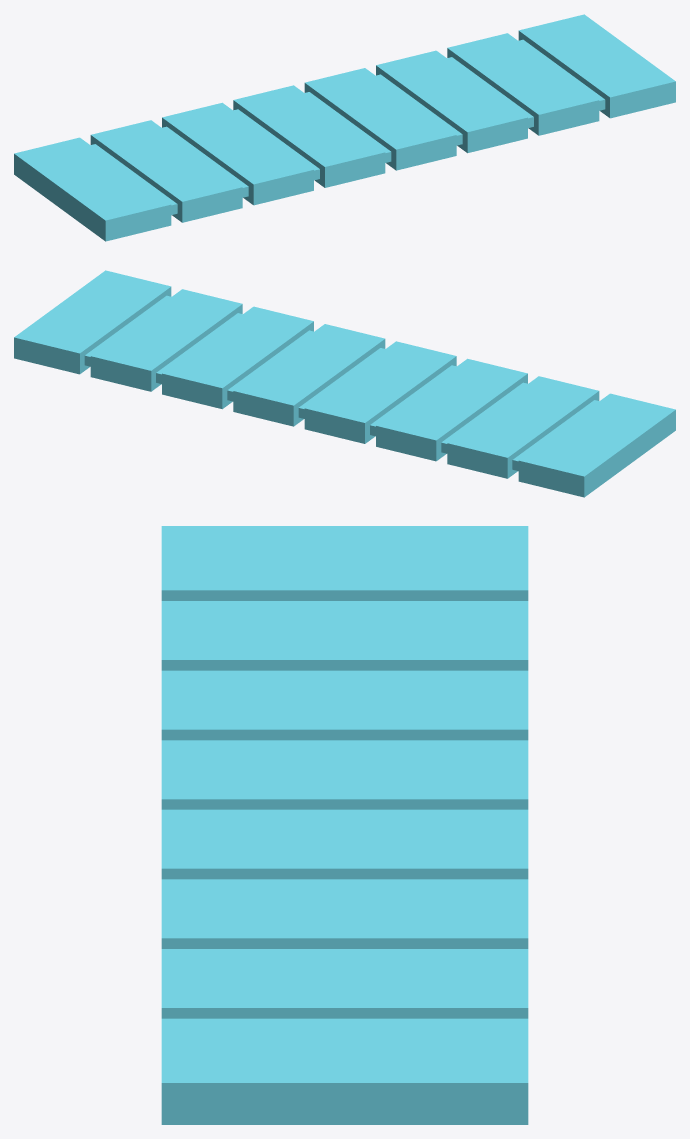
The model's file is Bridge.glb.
The picture shows the model from 3 angles, top to bottom: view 1: azimuth 30°, elevation 25°; view 2: azimuth 150°, elevation 25°; view 3: azimuth 270°, elevation 25°; orthographic projection. The views are drawn at different scales.
Parts seen in each view (by area): view 1: Bridge; view 2: Bridge; view 3: Bridge.
Part boxes in pixels (left/top/right/bottom): Bridge: left=14, top=14, right=675, bottom=241; Bridge: left=14, top=270, right=675, bottom=497; Bridge: left=161, top=526, right=528, bottom=1124.
Bounding box in the file's own units: 3.62 × 0.1272 × 1.01.
